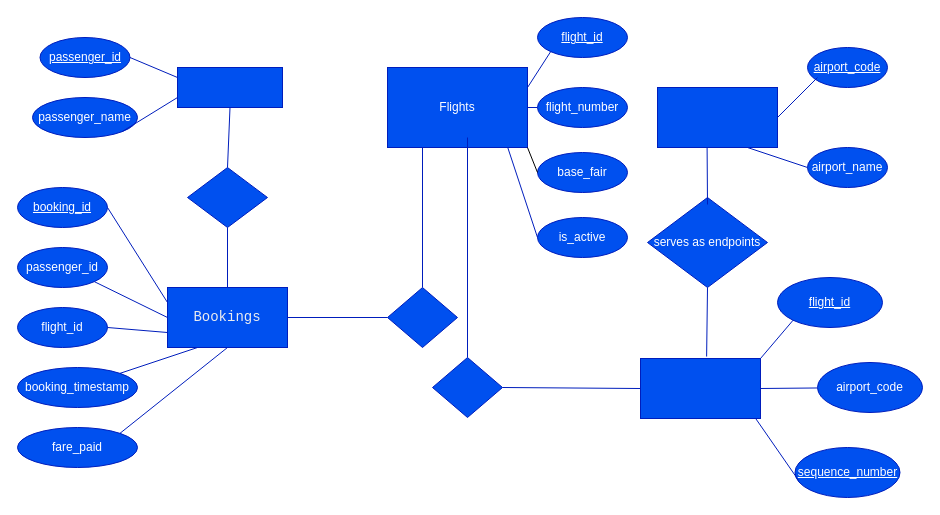
This 940x515 diagram has some shape labels left out. The centre of each missing label's shape, as x and y in pixels:
"Airports" goes at pixel 717 117.
"create" goes at pixel 227 197.
"flies via" goes at pixel 467 387.
"Flight_routes" goes at pixel 700 388.
"is booked in" goes at pixel 422 317.
"Passengers" goes at pixel 229 87.
